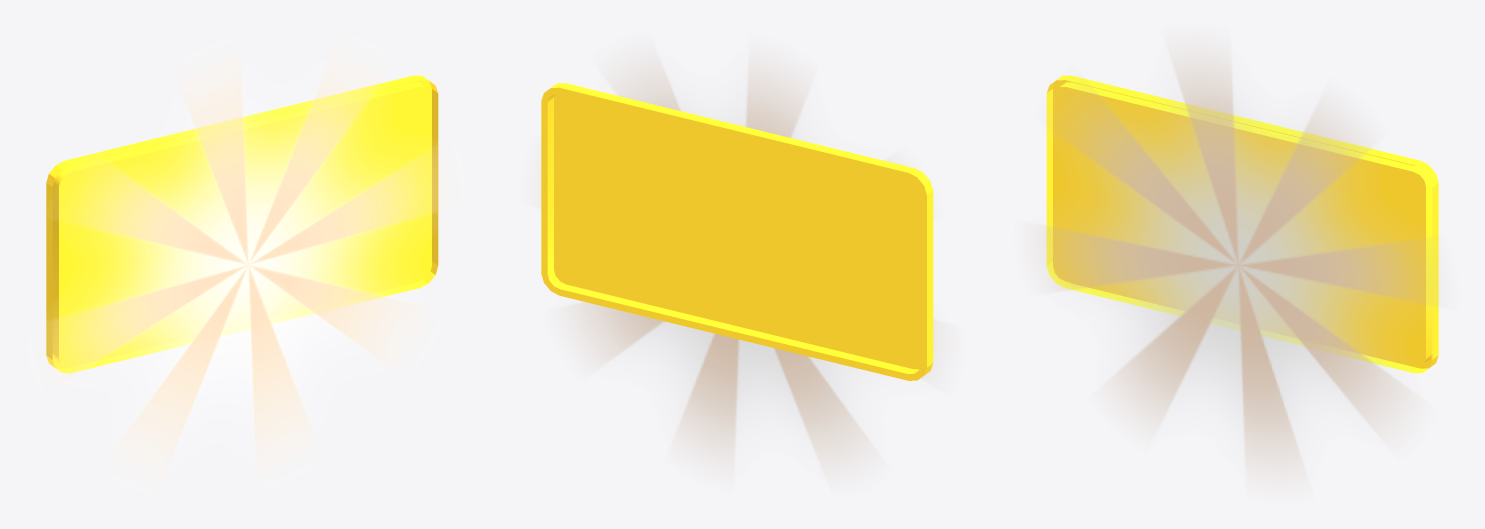
Rendered from highlight_rays.glb.
3 renders of one model, left to right at view 1: azimuth 30°, elevation 25°; view 2: azimuth 150°, elevation 25°; view 3: azimuth 330°, elevation 25°, orthographic.
Visible parts, largest first — view 1: Cylinder, title_plane.001; view 2: title_plane.001, Cylinder; view 3: Cylinder, title_plane.001.
Part boxes in pixels (box(x1,y1,x2,y2)): Cylinder: box(44, 53, 448, 475); title_plane.001: box(46, 75, 438, 373); title_plane.001: box(541, 83, 933, 380); Cylinder: box(562, 53, 945, 475); Cylinder: box(1034, 44, 1438, 482); title_plane.001: box(1046, 75, 1438, 373).
Size of the model in its own units: 2 by 2 by 0.0623.
2 materials, 1 textured.
